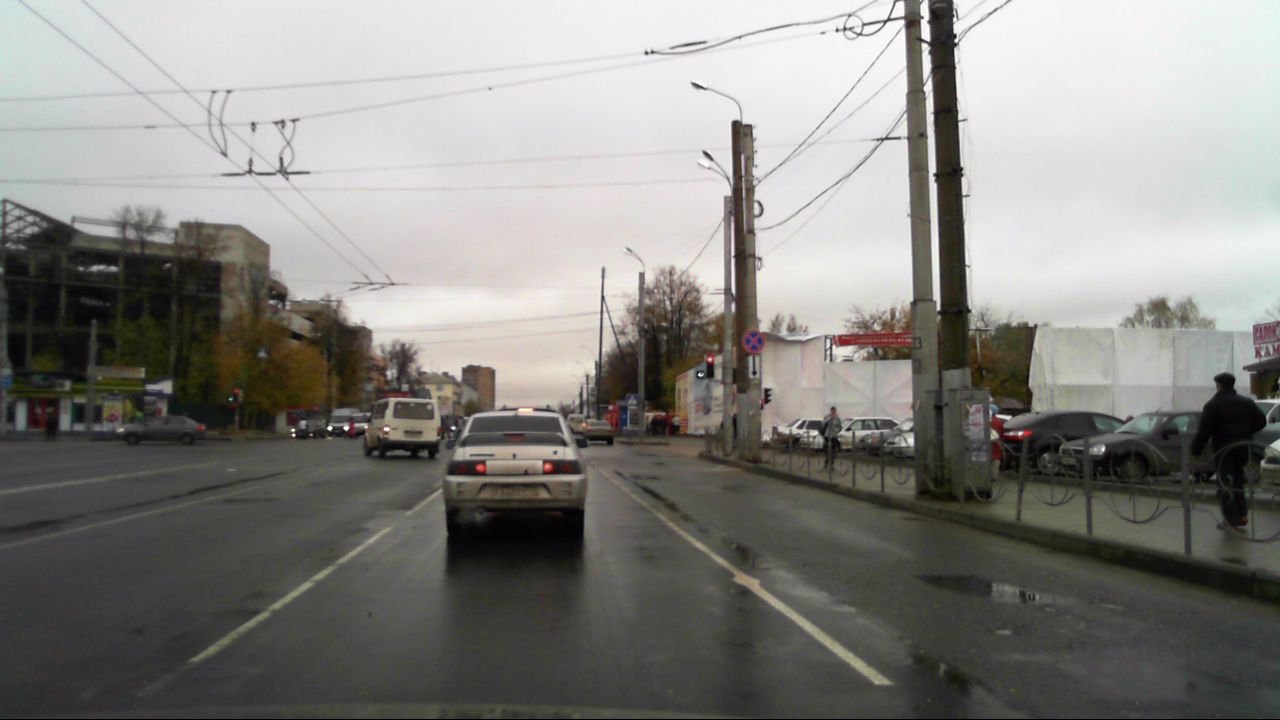No Parking: (741, 329, 765, 354)
